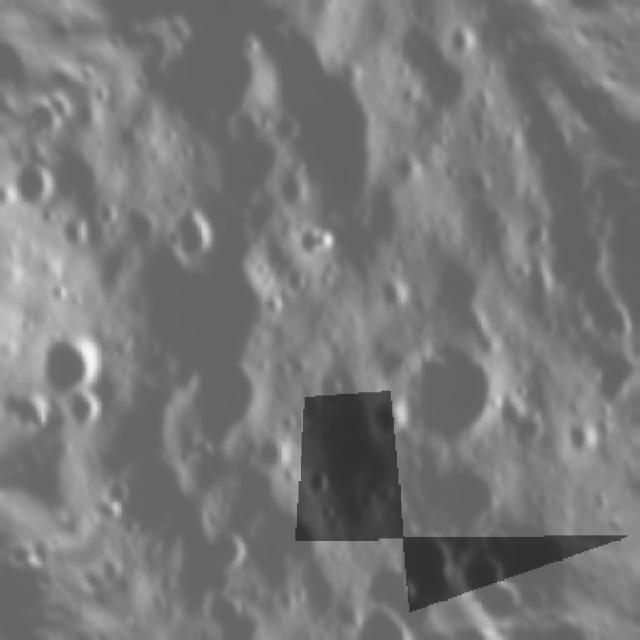crater: (96, 190, 310, 404), (144, 0, 315, 172), (370, 310, 528, 462), (364, 0, 504, 137), (391, 428, 529, 566), (160, 342, 298, 469), (23, 121, 131, 237), (23, 308, 131, 415), (153, 188, 241, 281), (391, 514, 477, 608), (488, 387, 566, 470), (359, 546, 435, 626), (441, 529, 519, 605), (364, 249, 438, 328), (0, 148, 69, 226), (57, 375, 129, 448), (336, 586, 429, 640), (264, 148, 333, 217), (202, 512, 268, 583), (4, 376, 68, 444), (198, 574, 260, 637), (439, 7, 499, 70), (116, 192, 176, 254), (259, 97, 313, 154), (92, 465, 146, 520), (368, 387, 418, 441), (514, 212, 563, 262), (562, 414, 610, 464), (300, 462, 342, 503), (0, 173, 31, 221), (0, 287, 20, 358), (0, 229, 15, 282)
